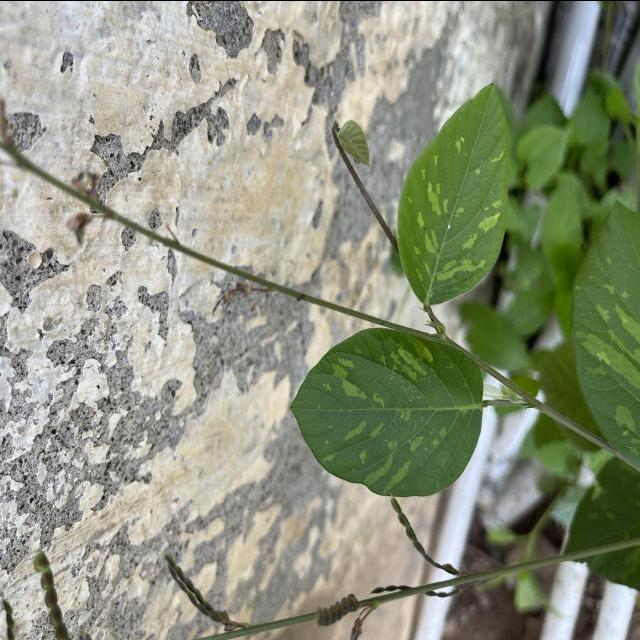Desmodium gangeticum: (285, 323, 486, 500), (394, 78, 512, 307)
